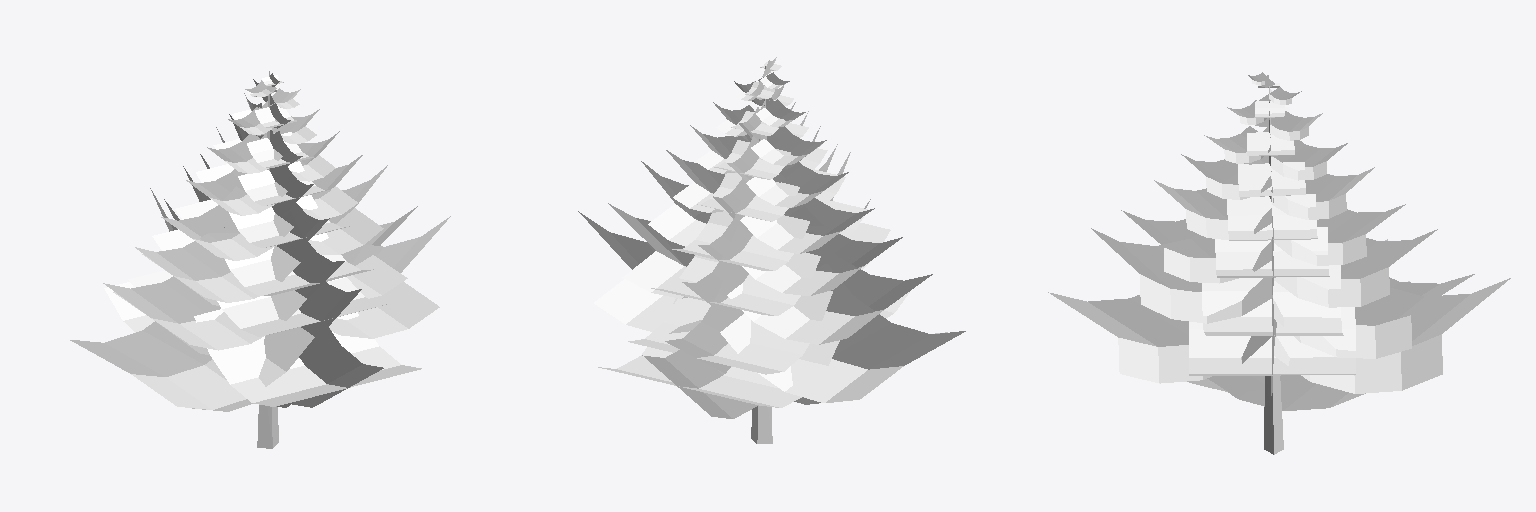
3 views of the same model, side by side, from view 1: azimuth 30°, elevation 25°; view 2: azimuth 150°, elevation 25°; view 3: azimuth 270°, elevation 25° (orthographic).
Visible parts, largest first — view 1: trunk; view 2: trunk; view 3: trunk.
Part boxes in pixels (x1,y1,x2,y2): trunk: (70,71,450,448); trunk: (578,57,965,443); trunk: (1048,72,1510,454).
Size of the model in its own units: 16.41 by 15.35 by 17.1.